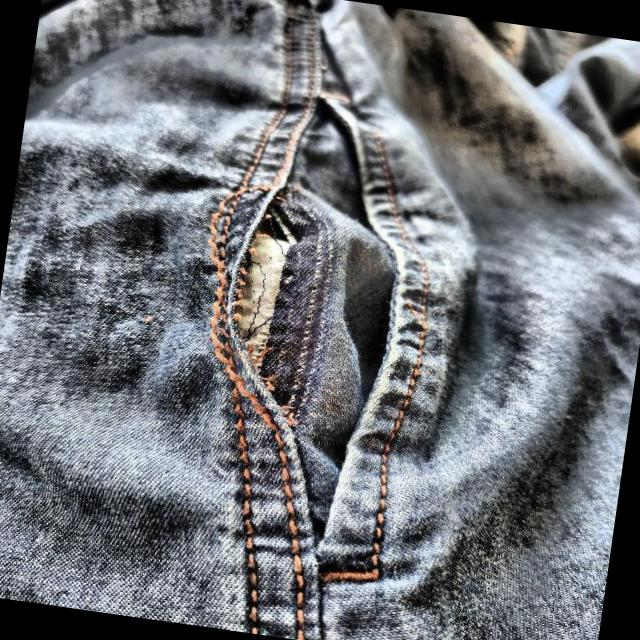gray stitch: (156, 176, 352, 408)
